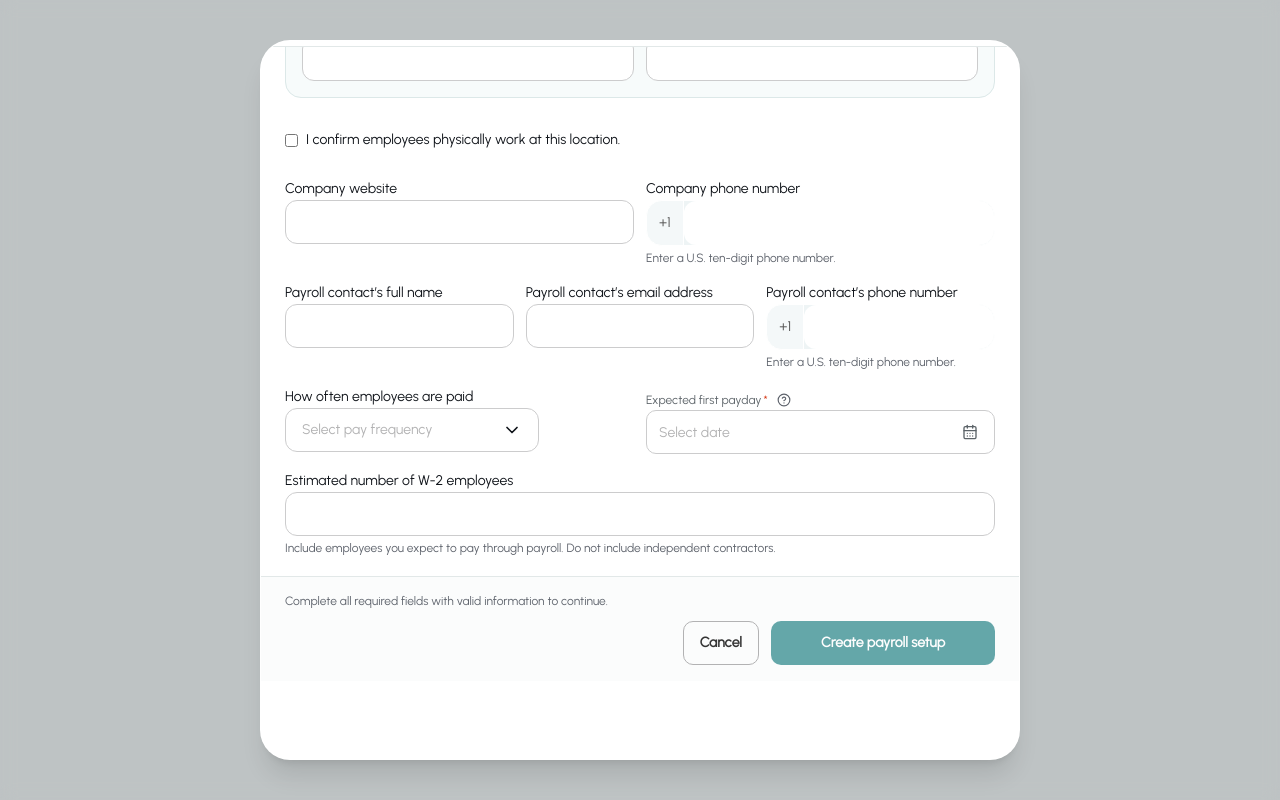
Test: AgencyPayrollBootstrapModal › uses clear payroll setup labels, helpers, and unique address input IDs
The width and height of the screenshot is (1280, 800).
(page scrolled)
Expected: the field labelled "Company website" is shown, [285,200,634,244]
Expected: the field labelled "Payroll contact’s full name" is shown, [285,304,514,348]
Hover over the button named "About expected first payday" at point(784, 400), box [774,390,794,410]
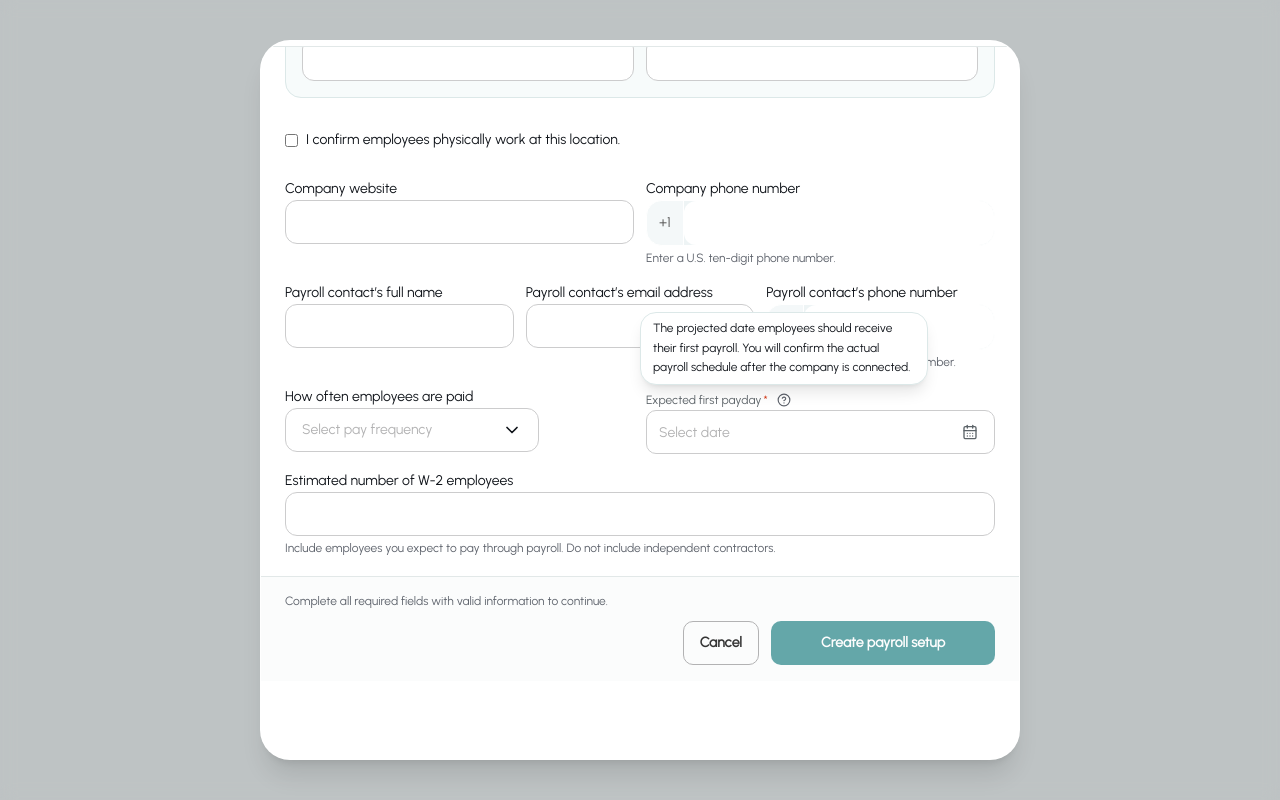
Expected: the checkbox labelled "I confirm employees physically work at this location." is shown, [285,134,298,146]
Result: the tooltip shows "The projected date employees should receive their first payroll. You will confirm the actual payroll schedule after the company is connected." at [653,321,910,374]
